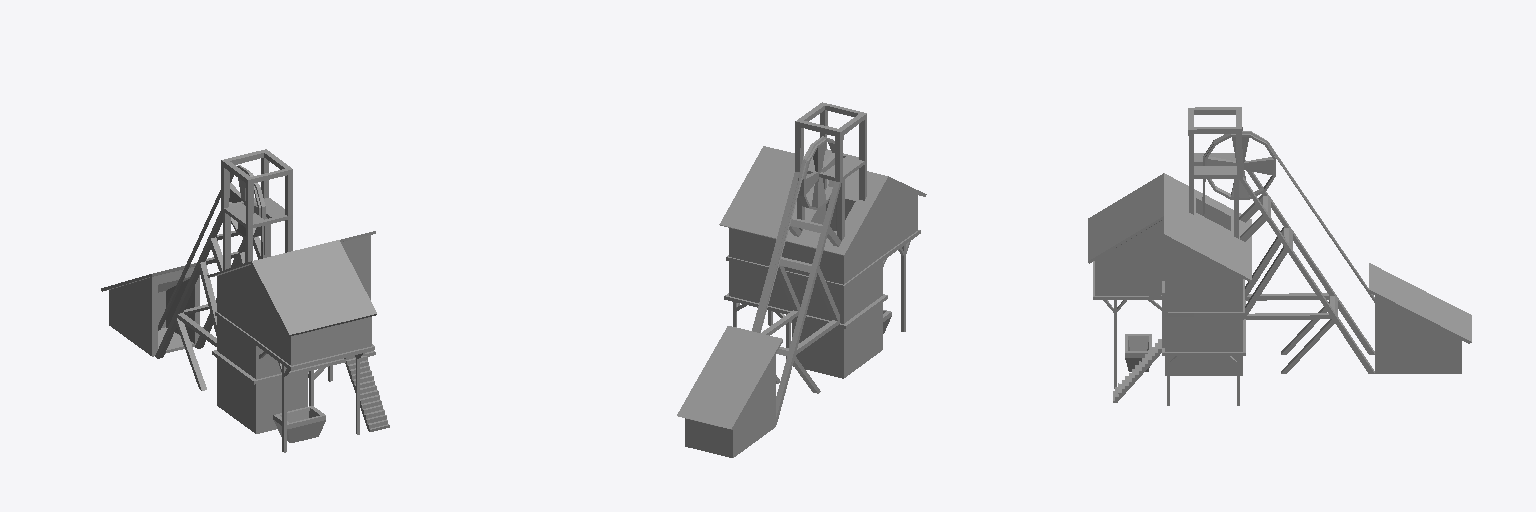
File: SM_Mine.obj
3 views of the same model, side by side, from view 1: azimuth 30°, elevation 25°; view 2: azimuth 150°, elevation 25°; view 3: azimuth 270°, elevation 25° (orthographic).
Parts seen in each view (by area): view 1: Cube; view 2: Cube; view 3: Cube.
Part boxes in pixels (x1,y1,x2,y2): Cube: (101, 149, 389, 452); Cube: (677, 102, 926, 457); Cube: (1088, 107, 1471, 405).
Size of the model in its own units: 149 by 280 by 397.